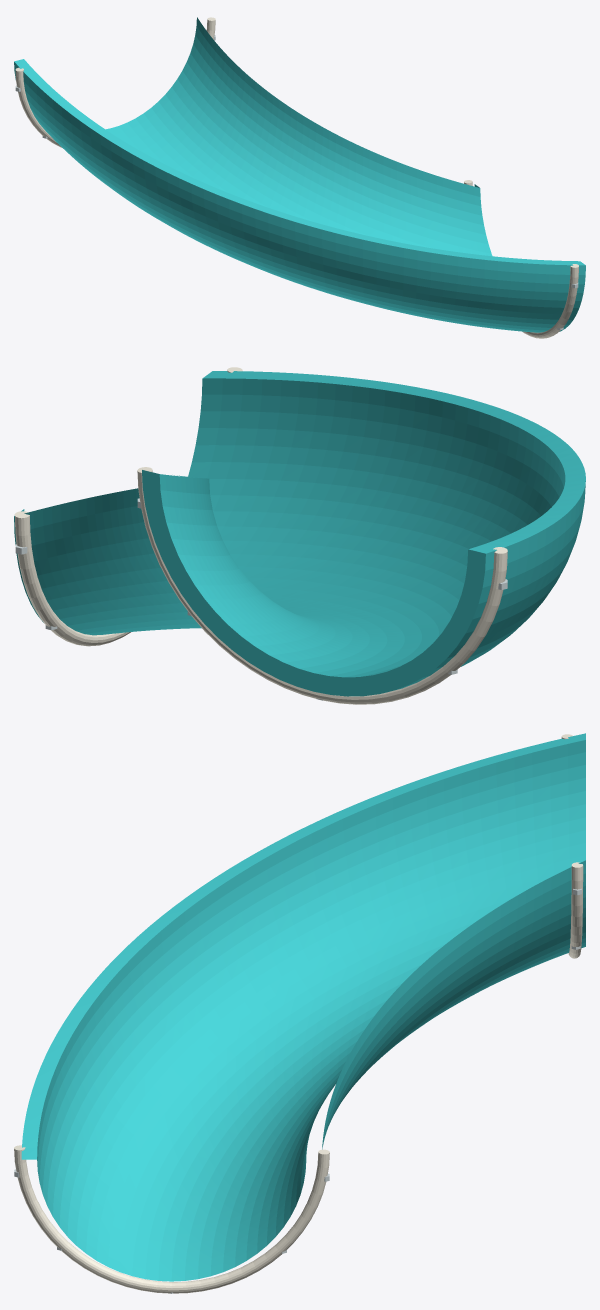
Rendered from waterpark-and-pool-operations-waterpark-and-pool-opera-e830eb99__28955.glb.
3 views of the same model, one above another, from view 1: azimuth 30°, elevation 25°; view 2: azimuth 150°, elevation 25°; view 3: azimuth 270°, elevation 25° (orthographic). The views are drawn at different scales.
Parts seen in each view (by area): view 1: waterpark-and-pool-operations-slide-curve-right-descending; view 2: waterpark-and-pool-operations-slide-curve-right-descending; view 3: waterpark-and-pool-operations-slide-curve-right-descending.
Boxes of the visible parts, <box> form: waterpark-and-pool-operations-slide-curve-right-descending: <box>14,17,585,338</box>; waterpark-and-pool-operations-slide-curve-right-descending: <box>14,367,585,704</box>; waterpark-and-pool-operations-slide-curve-right-descending: <box>14,733,585,1293</box>.
Size of the model in its own units: 2.76 by 1.74 by 2.76.
